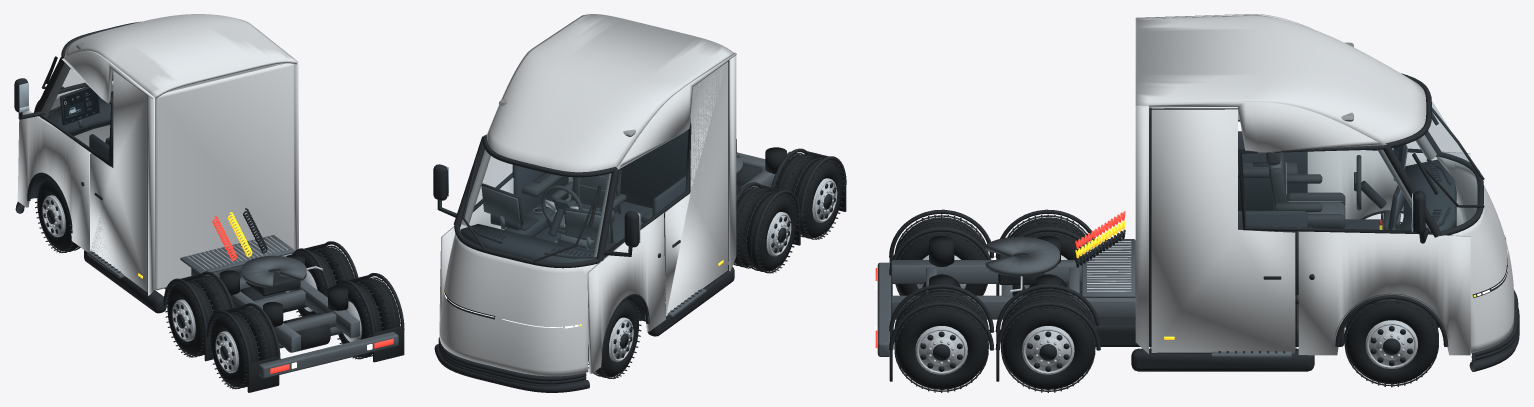
File: semi_medium.glb
3 renders of one model, left to right at view 1: azimuth 30°, elevation 25°; view 2: azimuth 150°, elevation 25°; view 3: azimuth 270°, elevation 25°, orthographic. The views are drawn at different scales.
Visible parts, largest first — view 1: Chassis__Semi_Pearl_White, DoorPivot_L__Semi_Pearl_White, Chassis__Semi_Exterior_Graphite, Chassis__Semi_Chassis_Steel, Chassis__Semi_Tire_Rubber, Chassis__Semi_Laminated_Glass, WheelSpin_RL__Semi_Tire_Rubber, WheelSpin_ML__Semi_Tire_Rubber, WheelSpin_RR__Semi_Tire_Rubber, FifthWheelPivot__Semi_Chassis_Steel, WheelSpin_MR__Semi_Tire_Rubber, Chassis__Semi_Interior_Charcoal (+15 smaller); view 2: Chassis__Semi_Pearl_White, Chassis__Semi_Laminated_Glass, Chassis__Semi_Exterior_Graphite, DoorPivot_L__Semi_Pearl_White, Chassis__Semi_Interior_Charcoal, WheelSpin_ML__Semi_Tire_Rubber, WheelSpin_RL__Semi_Tire_Rubber, DoorPivot_L__Semi_Laminated_Glass, WheelSpin_FL__Semi_Tire_Rubber, WheelSpin_ML__Semi_Tread_Rubber, Chassis__Semi_Headliner, DoorPivot_R__Semi_Interior_Charcoal (+13 smaller); view 3: Chassis__Semi_Pearl_White, DoorPivot_R__Semi_Pearl_White, Chassis__Semi_Exterior_Graphite, Chassis__Semi_Laminated_Glass, Chassis__Semi_Chassis_Steel, WheelSpin_RR__Semi_Tire_Rubber, WheelSpin_MR__Semi_Tire_Rubber, WheelSpin_FR__Semi_Tire_Rubber, DoorPivot_R__Semi_Laminated_Glass, Chassis__Semi_Interior_Charcoal, DriverSeat__Semi_Seat_Bolster, FifthWheelPivot__Semi_Chassis_Steel (+19 smaller).
Boxes of the visible parts, x1,y1,x2,y2 form: Chassis__Semi_Pearl_White: [17, 14, 298, 295]; DoorPivot_L__Semi_Pearl_White: [90, 70, 147, 292]; Chassis__Semi_Exterior_Graphite: [14, 21, 404, 367]; Chassis__Semi_Chassis_Steel: [87, 235, 398, 378]; Chassis__Semi_Tire_Rubber: [108, 142, 404, 392]; Chassis__Semi_Laminated_Glass: [41, 63, 93, 147]; WheelSpin_RL__Semi_Tire_Rubber: [210, 308, 276, 387]; WheelSpin_ML__Semi_Tire_Rubber: [167, 277, 230, 355]; WheelSpin_RR__Semi_Tire_Rubber: [338, 279, 399, 357]; FifthWheelPivot__Semi_Chassis_Steel: [241, 255, 306, 287]; WheelSpin_MR__Semi_Tire_Rubber: [298, 247, 354, 316]; Chassis__Semi_Interior_Charcoal: [30, 91, 113, 198]; Chassis__Semi_Pearl_White: [439, 14, 736, 376]; Chassis__Semi_Laminated_Glass: [458, 146, 663, 262]; Chassis__Semi_Exterior_Graphite: [433, 60, 846, 392]; DoorPivot_L__Semi_Pearl_White: [664, 61, 727, 315]; Chassis__Semi_Interior_Charcoal: [460, 118, 690, 321]; WheelSpin_ML__Semi_Tire_Rubber: [734, 188, 796, 271]; WheelSpin_RL__Semi_Tire_Rubber: [775, 154, 842, 237]; DoorPivot_L__Semi_Laminated_Glass: [662, 130, 687, 206]; WheelSpin_FL__Semi_Tire_Rubber: [595, 301, 638, 377]; WheelSpin_ML__Semi_Tread_Rubber: [733, 186, 798, 273]; Chassis__Semi_Headliner: [461, 98, 635, 256]; DoorPivot_R__Semi_Interior_Charcoal: [512, 165, 568, 215]; Chassis__Semi_Pearl_White: [1135, 14, 1514, 355]; DoorPivot_R__Semi_Pearl_White: [1151, 107, 1295, 353]; Chassis__Semi_Exterior_Graphite: [889, 73, 1519, 371]; Chassis__Semi_Laminated_Glass: [1296, 101, 1478, 230]; Chassis__Semi_Chassis_Steel: [877, 230, 1400, 358]; WheelSpin_RR__Semi_Tire_Rubber: [895, 291, 987, 389]; WheelSpin_MR__Semi_Tire_Rubber: [1002, 291, 1094, 389]; WheelSpin_FR__Semi_Tire_Rubber: [1345, 299, 1438, 384]; DoorPivot_R__Semi_Laminated_Glass: [1242, 152, 1294, 226]; Chassis__Semi_Interior_Charcoal: [1149, 107, 1456, 345]; DriverSeat__Semi_Seat_Bolster: [1266, 152, 1345, 228]; FifthWheelPivot__Semi_Chassis_Steel: [985, 236, 1059, 276].
Size of the model in its own units: 3.27 by 3.84 by 7.67.
20 materials, 2 textured.
